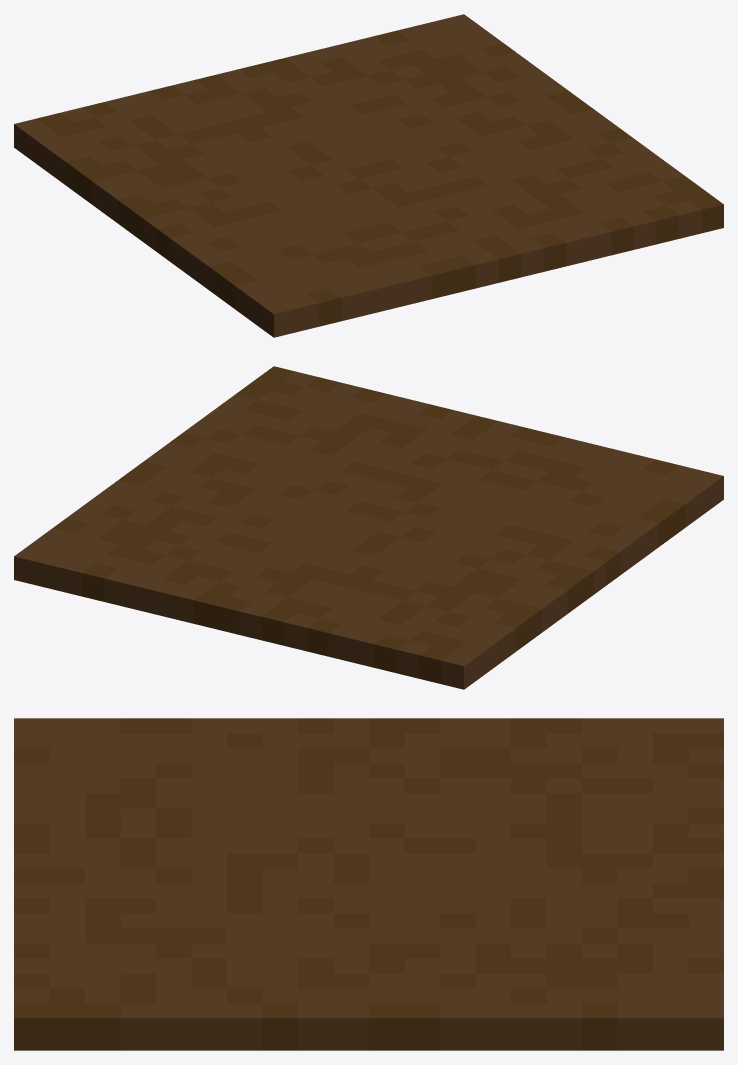
The model's file is Ondergrond6.fbx.
3 renders of one model, top to bottom at view 1: azimuth 30°, elevation 25°; view 2: azimuth 150°, elevation 25°; view 3: azimuth 270°, elevation 25°, orthographic. The views are drawn at different scales.
Parts seen in each view (by area): view 1: ondergrond6:ondergrond6; view 2: ondergrond6:ondergrond6; view 3: ondergrond6:ondergrond6.
Boxes of the visible parts, <box> form: ondergrond6:ondergrond6: <box>14,14,723,337</box>; ondergrond6:ondergrond6: <box>14,366,723,689</box>; ondergrond6:ondergrond6: <box>14,718,723,1050</box>.
Size of the model in its own units: 20 by 1 by 20.
1 material, 1 textured.
